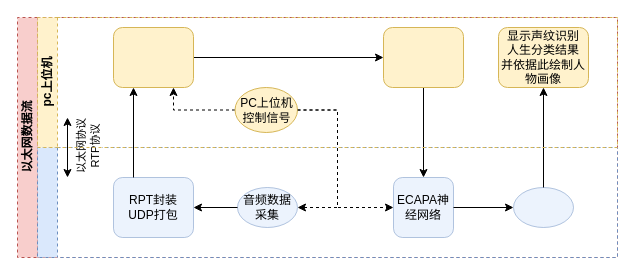
The diagram is 635 pixels wide and 275 high, and some of its shapes have lost their labels. Here are the shapes that lost their labels. From the top down, the box of each, then its label:
(112, 26, 194, 88): PC上位机接收UDP包，拆包成音频数据
(382, 26, 464, 88): 梅尔倒谱计算
(36, 146, 618, 258): FPGA
(512, 186, 574, 228): 声音特征数据
